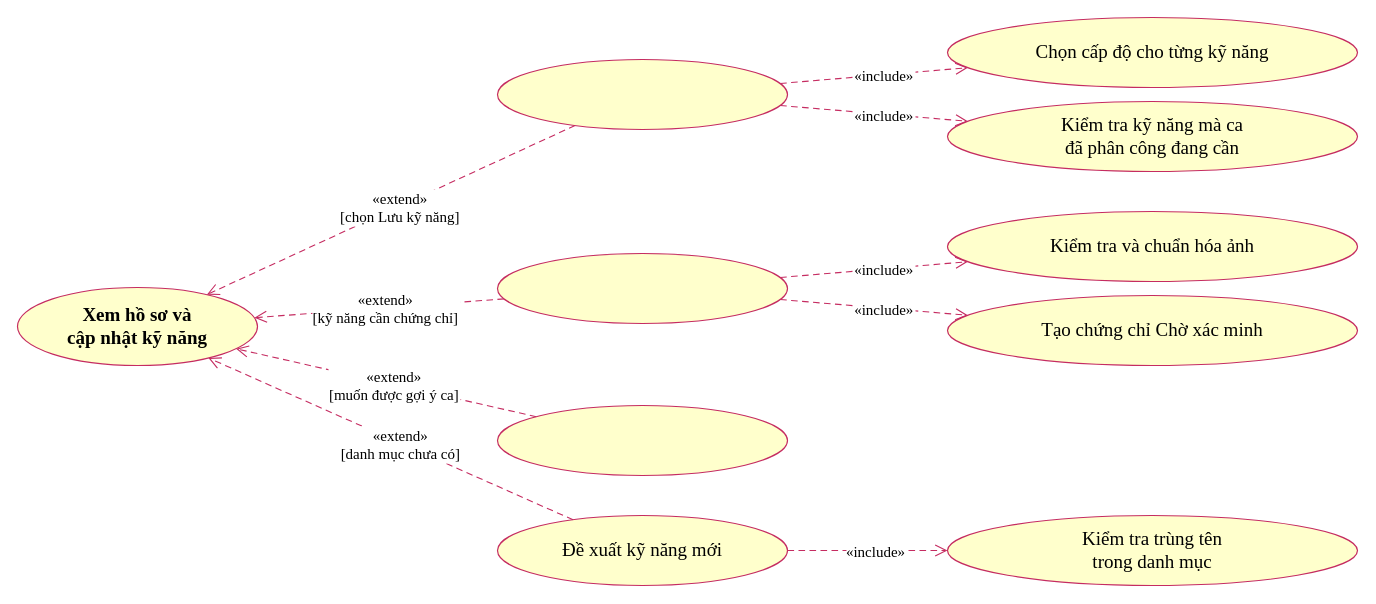
Some shapes in this 1376 by 604 pixel diagram are drawn without their labels. The box of each missing label's shape, as (x1, y1, x2, y2) in pixels:
Cập nhật kỹ năng: (496, 58, 788, 130)
Gửi chứng chỉ: (496, 252, 788, 324)
Khai lịch rảnh và nơi ở: (496, 404, 788, 476)
